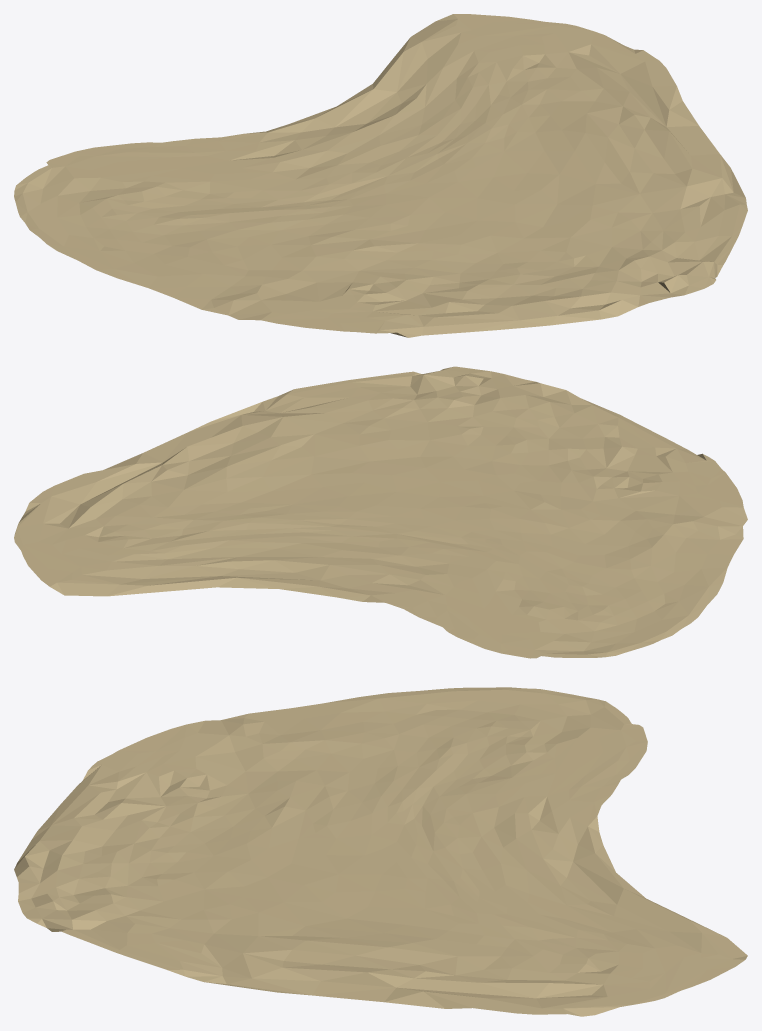
Rendered from Big Sand.fbx.
The picture shows the model from 3 angles, top to bottom: view 1: azimuth 30°, elevation 25°; view 2: azimuth 150°, elevation 25°; view 3: azimuth 270°, elevation 25°; orthographic projection. The views are drawn at different scales.
Parts seen in each view (by area): view 1: pPlane3; view 2: pPlane3; view 3: pPlane3.
Part boxes in pixels (x1,y1,x2,y2): pPlane3: (14,14,747,337); pPlane3: (14,366,747,658); pPlane3: (14,687,747,1016).
Bounding box in the file's own units: 54.13 × 0.9814 × 50.77.
